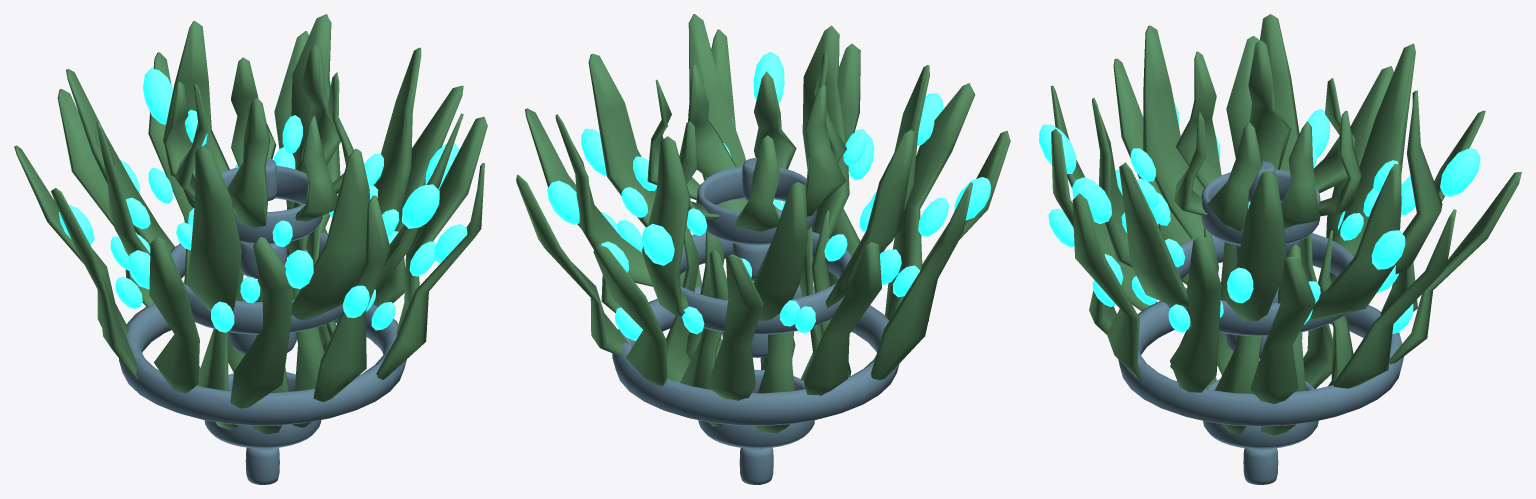
Rendered from Chandelier.fbx.
3 renders of one model, left to right at view 1: azimuth 30°, elevation 25°; view 2: azimuth 150°, elevation 25°; view 3: azimuth 270°, elevation 25°, orthographic.
Visible parts, largest first — view 1: Mesh.002, Chandelier.004, Icosphere.004; view 2: Mesh.002, Chandelier.004, Icosphere.004; view 3: Mesh.002, Chandelier.004, Icosphere.004.
Part boxes in pixels (x1,y1,x2,y2): Mesh.002: (14,14,487,434); Chandelier.004: (119,158,406,484); Icosphere.004: (58,68,467,332); Mesh.002: (516,14,1010,433); Chandelier.004: (612,158,899,484); Icosphere.004: (547,52,990,340); Mesh.002: (1050,14,1521,435); Chandelier.004: (1118,161,1403,484); Icosphere.004: (1039,102,1480,333).
Bounding box in the file's own units: 1089 × 1004 × 1073.
